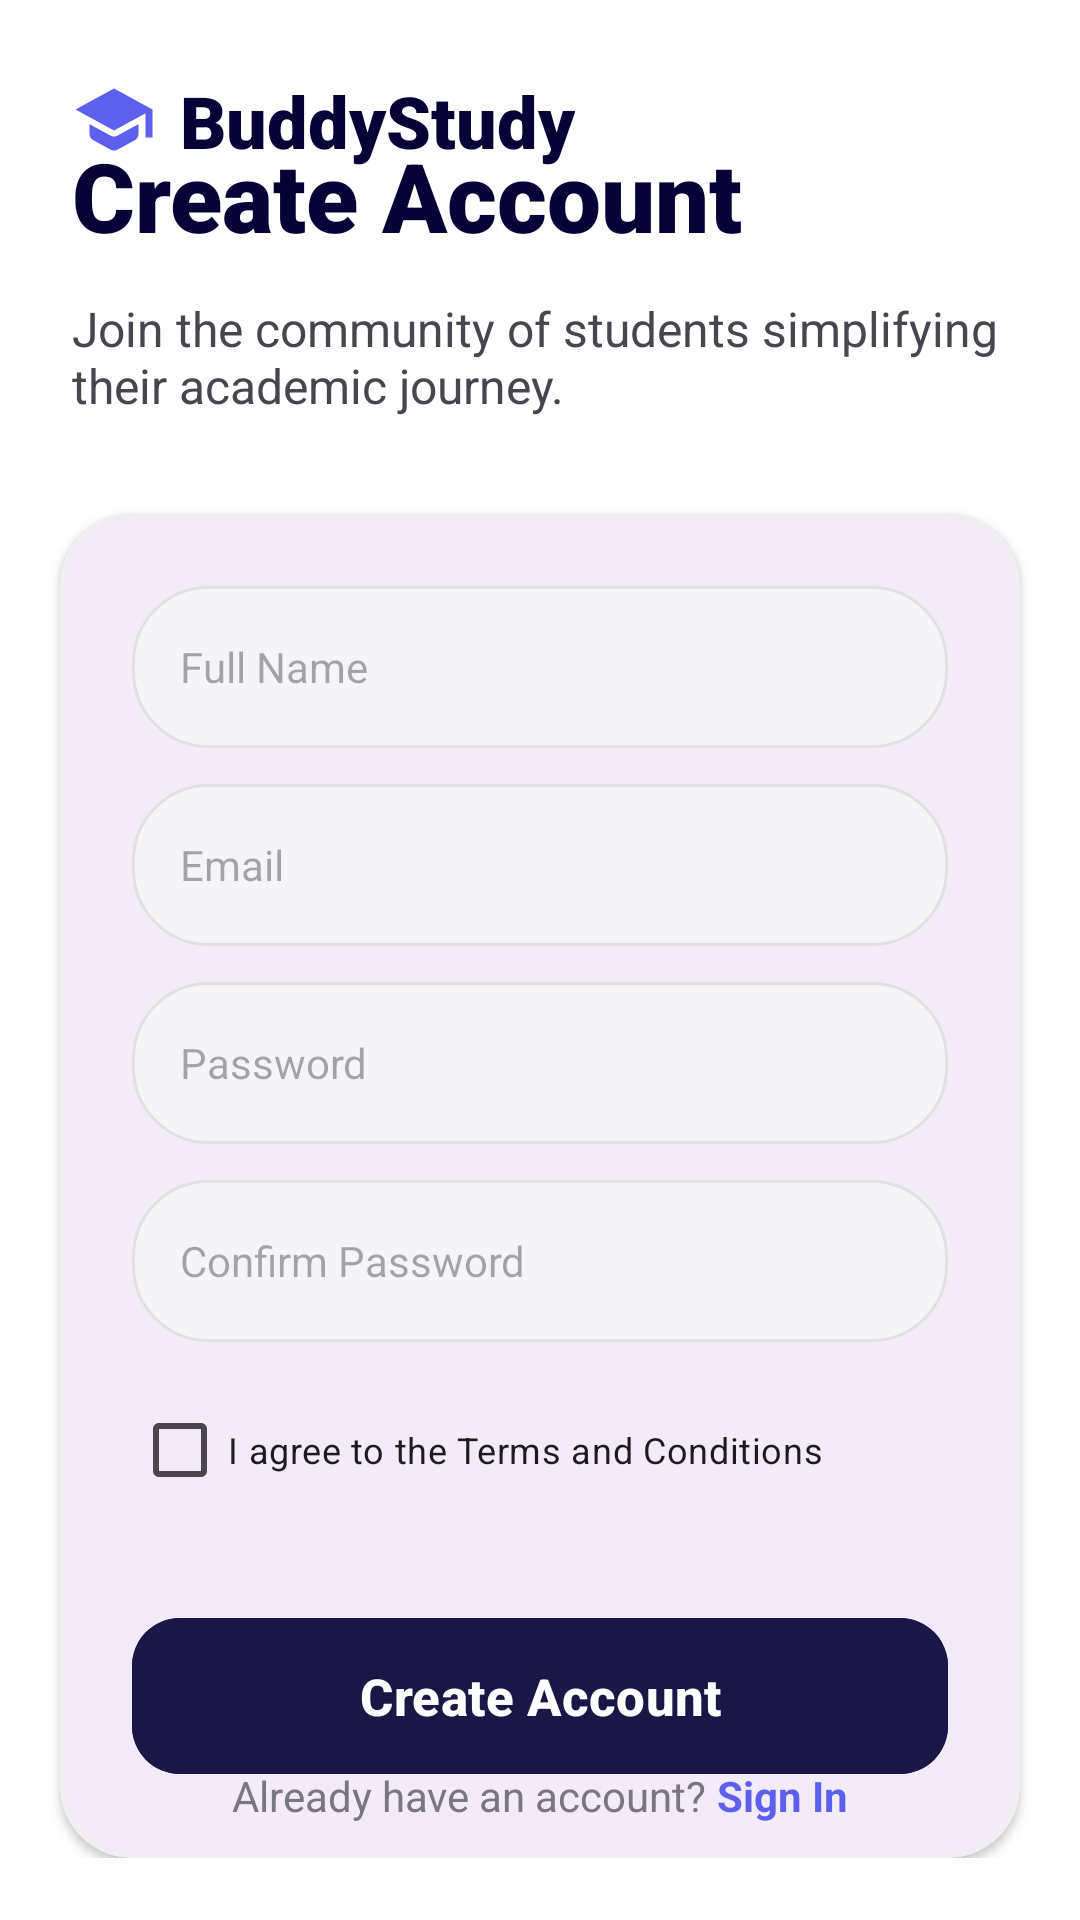

Icon click points for this 1080w x 1920h phone screenshot, format (x,y):
grad cap: (114,119)
